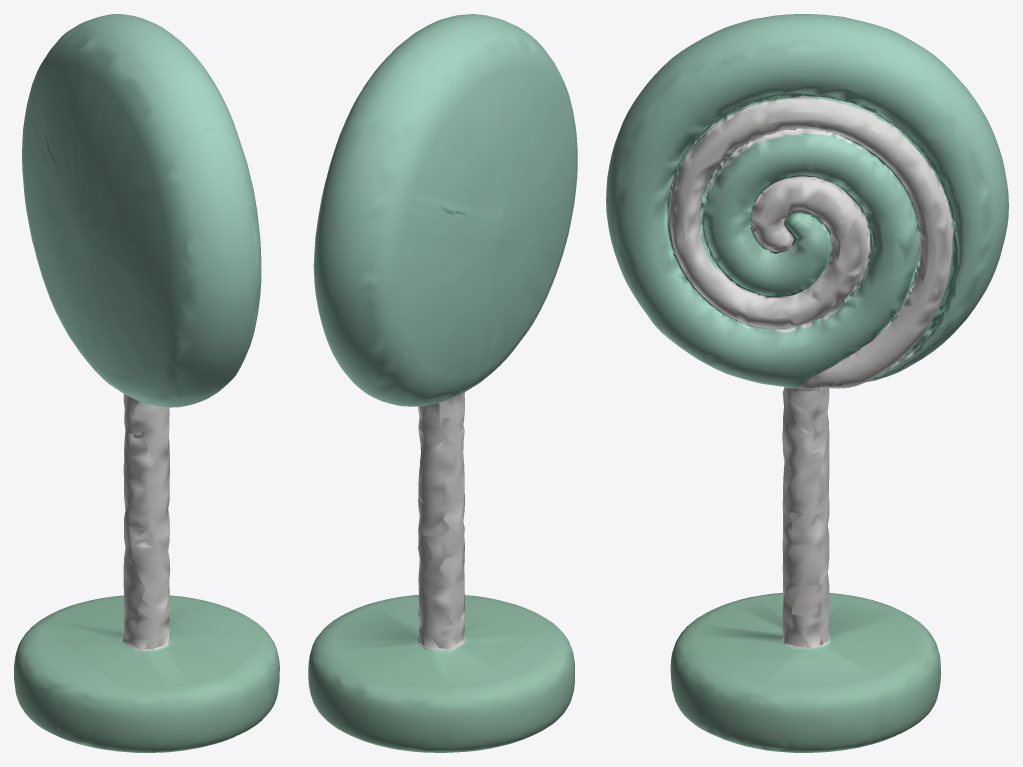
3 views of the same model, side by side, from view 1: azimuth 30°, elevation 25°; view 2: azimuth 150°, elevation 25°; view 3: azimuth 270°, elevation 25° (orthographic).
Visible parts, largest first — view 1: repaired; view 2: repaired; view 3: repaired.
Boxes of the visible parts, x1,y1,x2,y2 form: repaired: (14, 14, 279, 752); repaired: (308, 14, 577, 752); repaired: (606, 14, 1008, 752).
Size of the model in its own units: 0.3579 by 0.9996 by 0.5336.
Materials: 1 (1 with a texture image).
